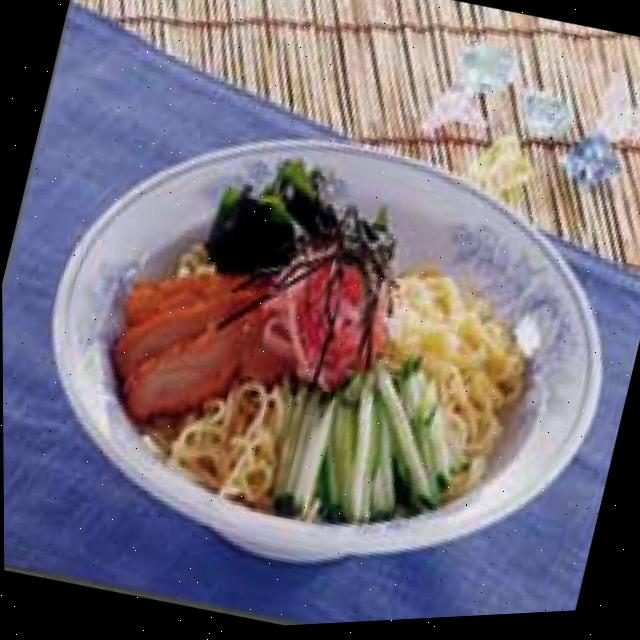面条主食: (1, 60, 640, 640)
